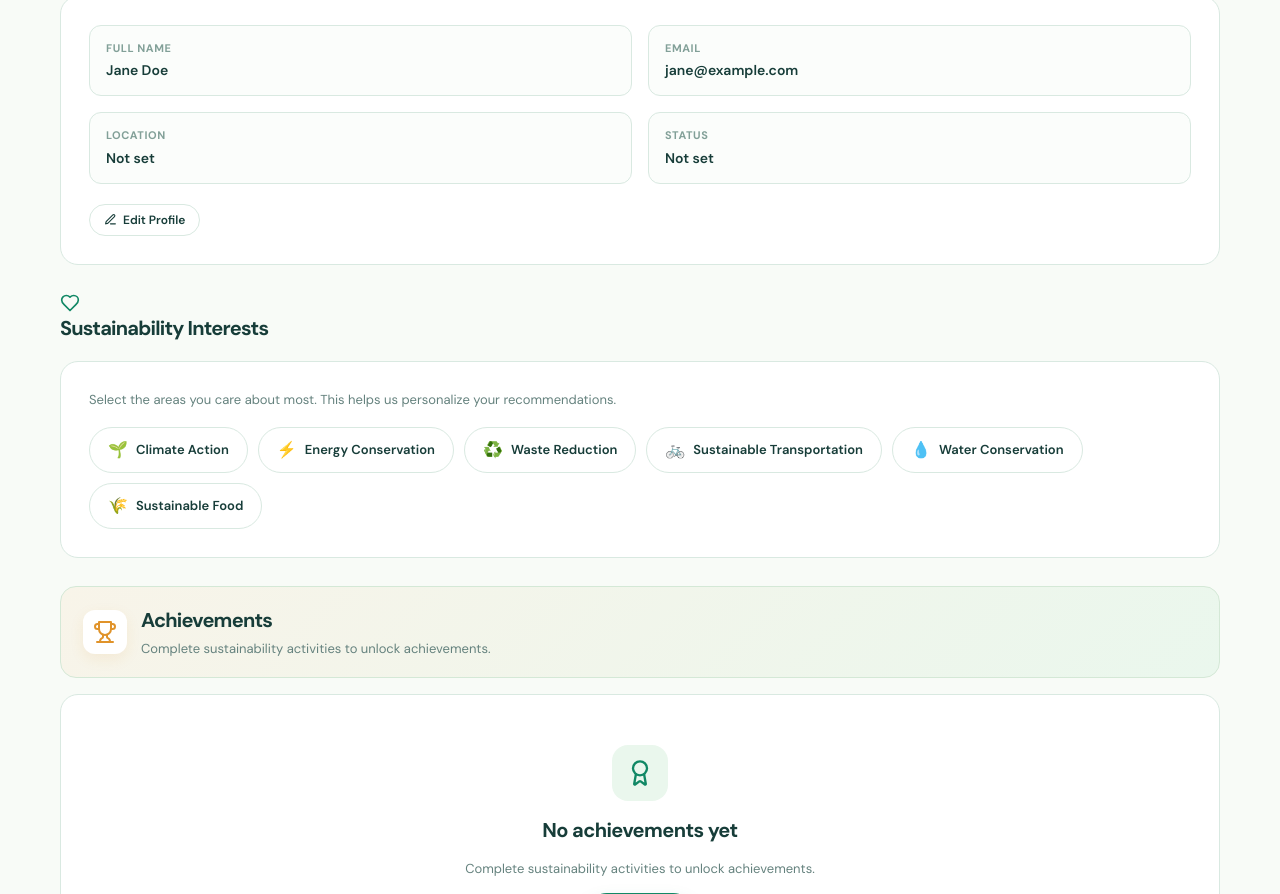
Test: ProfilePage › allows selecting and deselecting sustainability interests
This screenshot has width=1280, height=894.
(page scrolled)
Click the button "🌱 Climate Action".
click(168, 450)  # box [89,427,248,473]
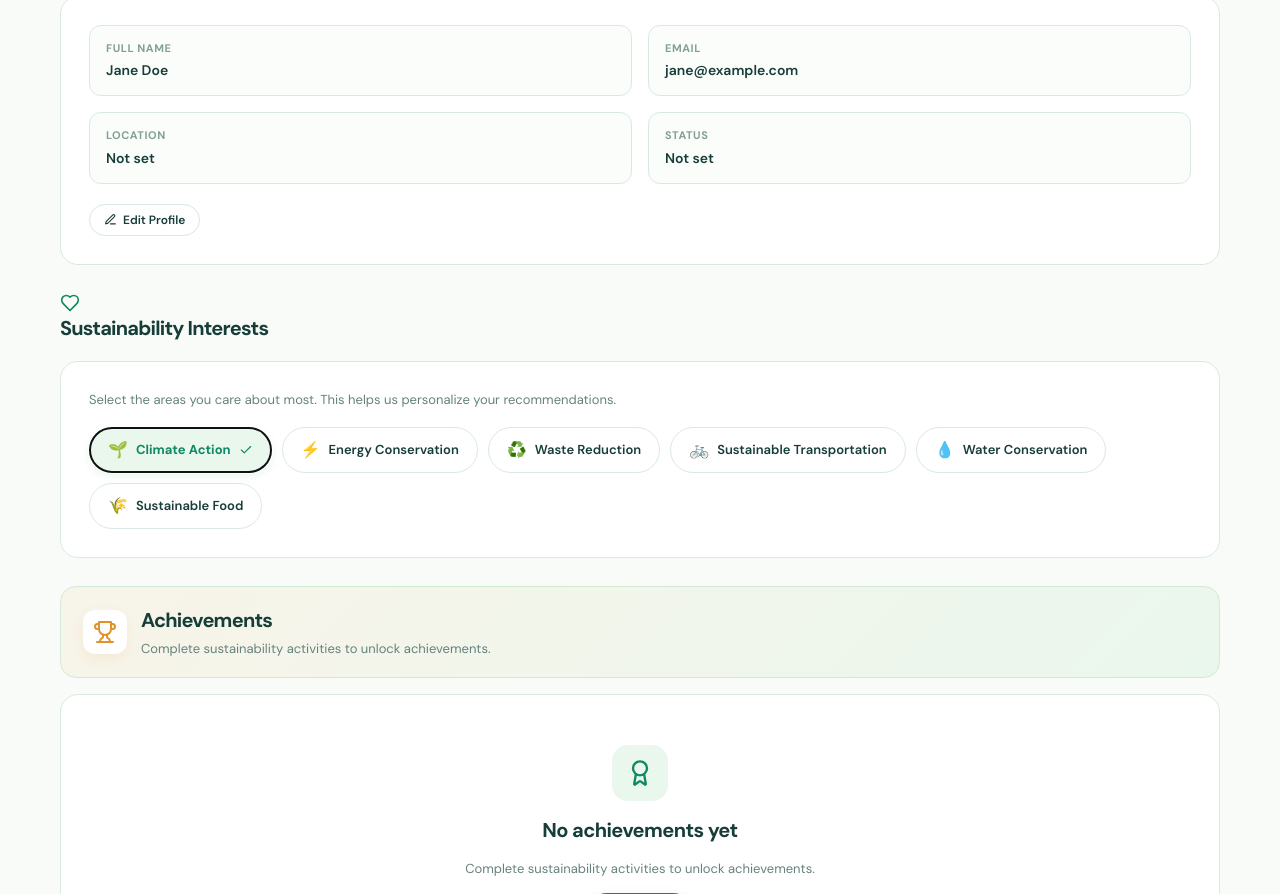
Result: the button "🌱 Climate Action" is pressed
// Deselecting works
Click the button "🌱 Climate Action".
click(180, 450)  # box [89,427,272,473]
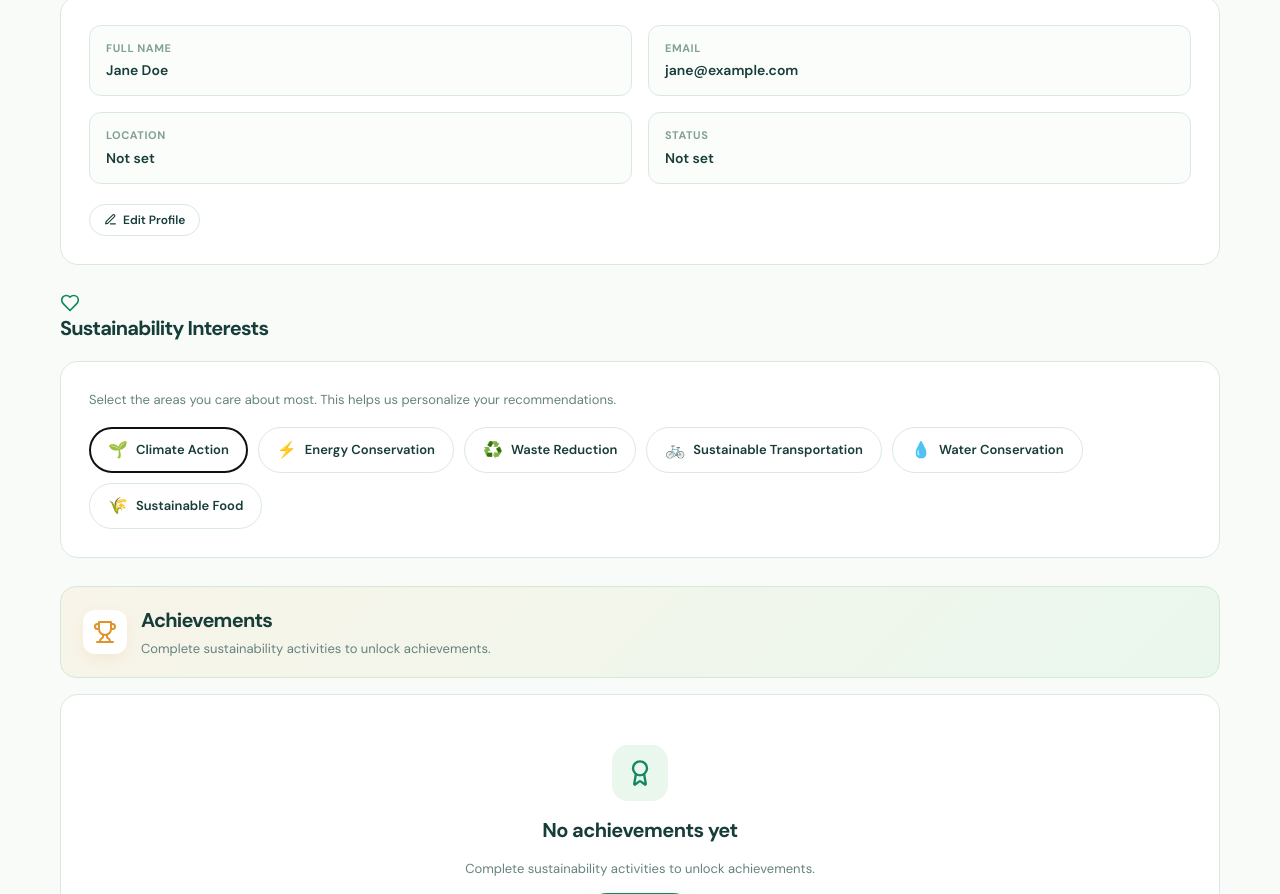
Result: the button "🌱 Climate Action" is not pressed at [89,427,248,473]
